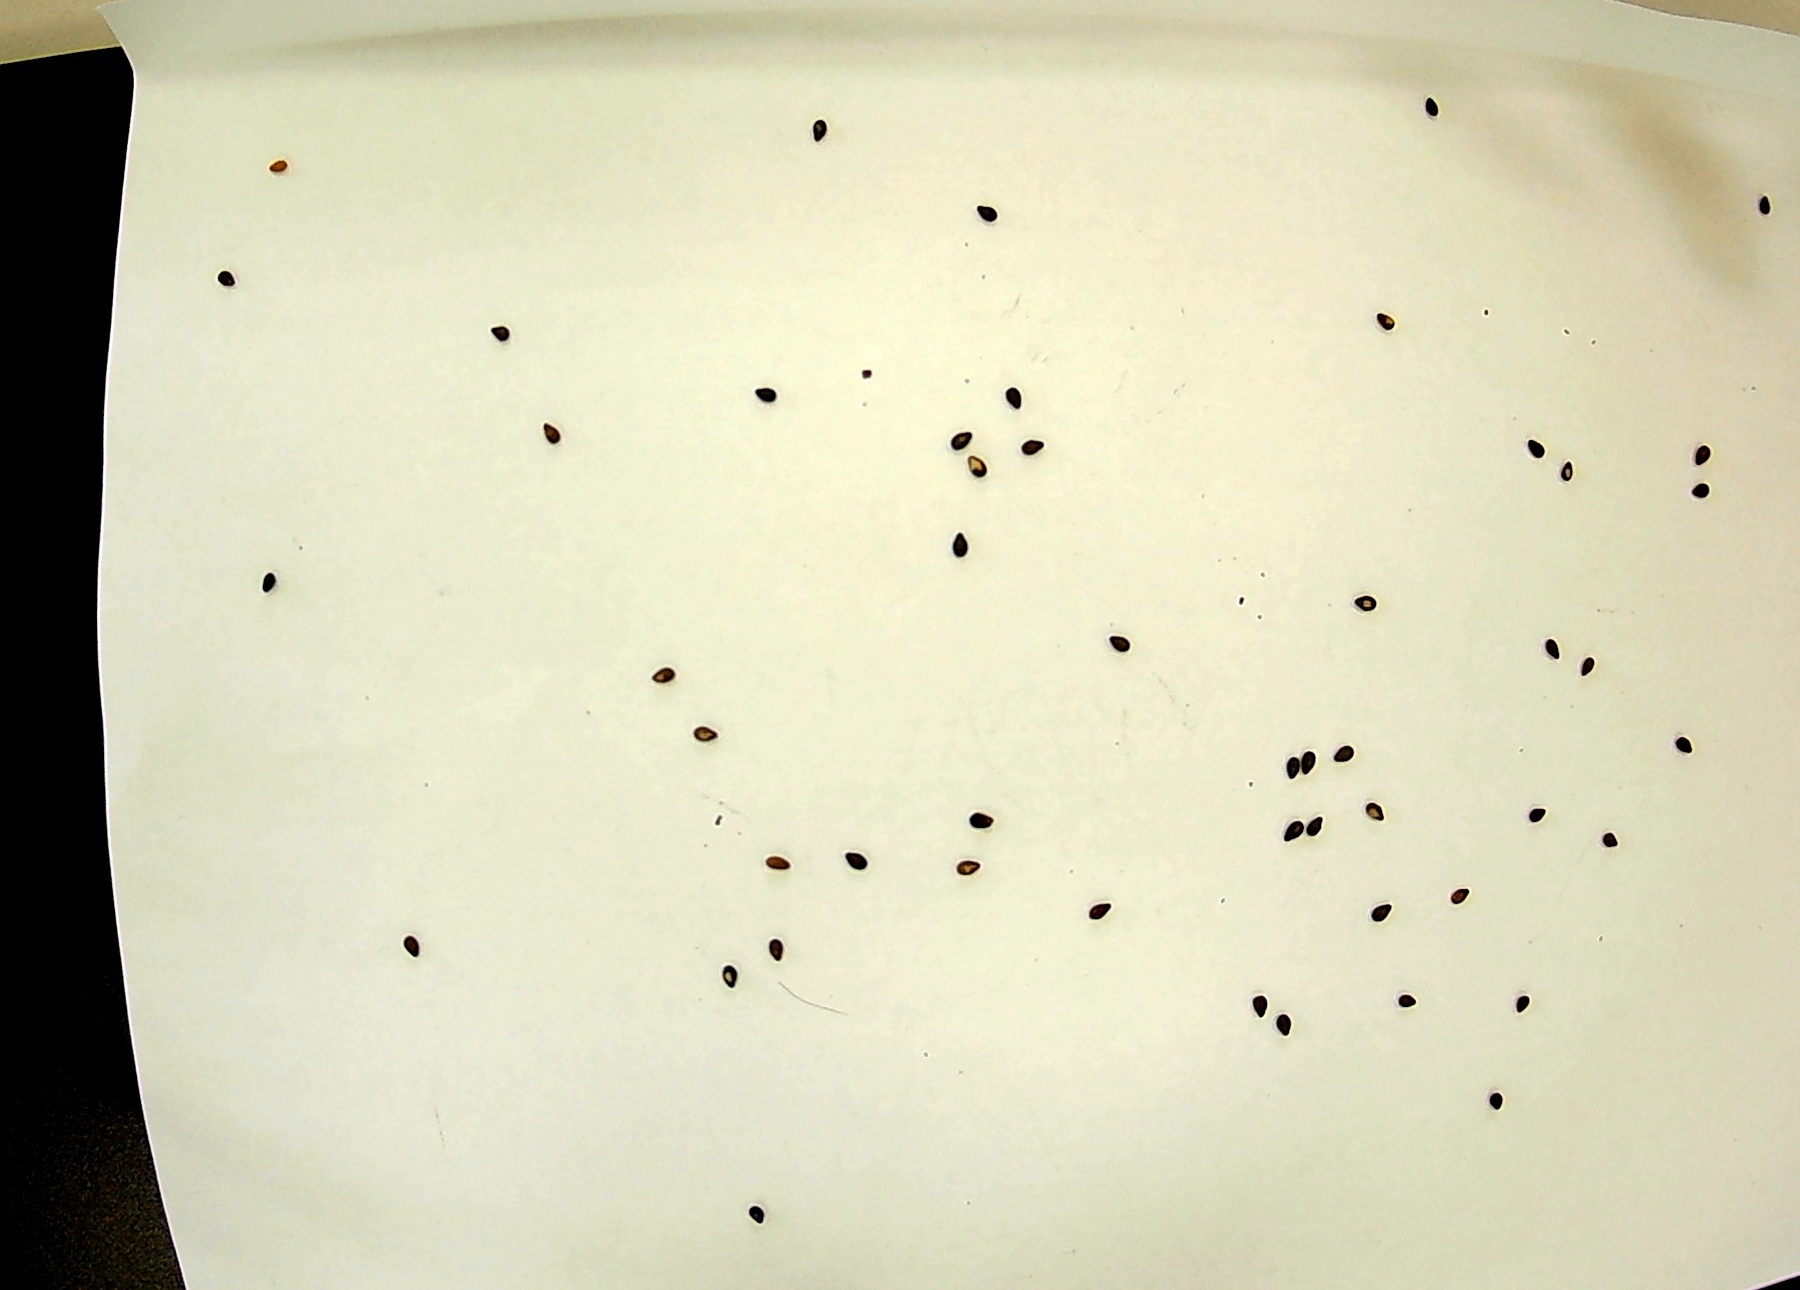sesami: (714, 969, 747, 1004), (975, 201, 1007, 236), (742, 1201, 774, 1236), (1393, 983, 1425, 1018), (1353, 793, 1386, 828), (1300, 811, 1333, 846), (1522, 800, 1554, 835), (1575, 644, 1607, 679), (1748, 193, 1780, 228), (268, 149, 299, 186), (960, 794, 991, 831), (1268, 1009, 1299, 1046), (1446, 882, 1476, 919), (209, 265, 240, 300), (250, 565, 280, 600), (392, 931, 423, 966), (762, 938, 793, 973), (758, 846, 788, 881), (695, 711, 726, 746), (645, 658, 675, 692), (841, 845, 872, 880), (537, 415, 568, 450), (476, 316, 507, 350), (753, 376, 784, 410), (797, 112, 827, 147), (1000, 370, 1031, 405), (1019, 431, 1049, 466), (947, 422, 978, 457), (964, 447, 995, 482), (938, 524, 968, 558), (959, 845, 989, 880), (1079, 891, 1109, 926), (1245, 988, 1275, 1023), (1511, 981, 1542, 1016), (1480, 1078, 1511, 1113), (1358, 892, 1388, 927), (1277, 808, 1307, 843), (1270, 747, 1300, 782), (1292, 739, 1323, 773), (1327, 739, 1358, 773), (1101, 623, 1132, 658), (1351, 581, 1381, 616), (1592, 820, 1623, 854), (1669, 720, 1700, 755), (1535, 623, 1566, 658), (1553, 454, 1584, 489), (1515, 420, 1546, 455), (1691, 431, 1722, 466), (1693, 465, 1723, 500), (1408, 94, 1439, 128), (1369, 300, 1400, 335)
